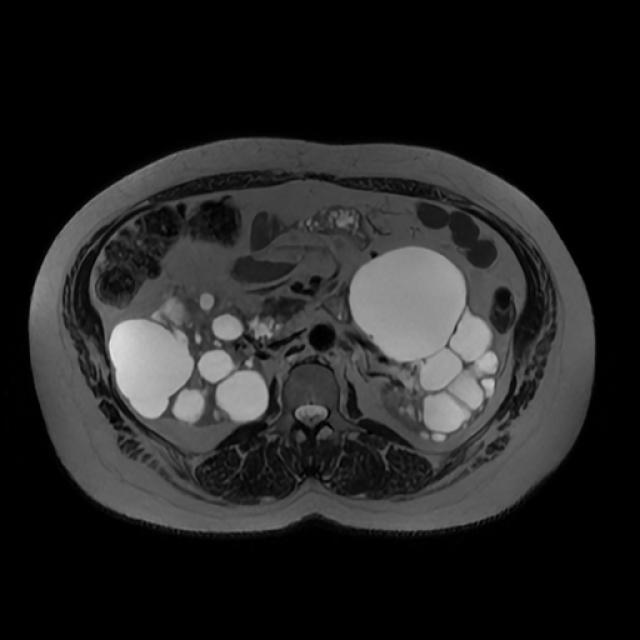sag: (108, 291, 270, 426)
sol: (347, 244, 503, 444)
